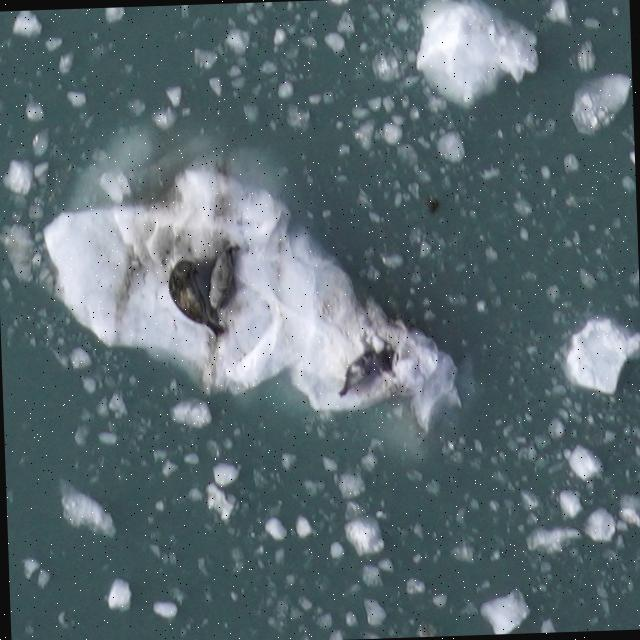seal: (164, 257, 230, 342), (203, 240, 245, 318), (330, 342, 382, 400)
